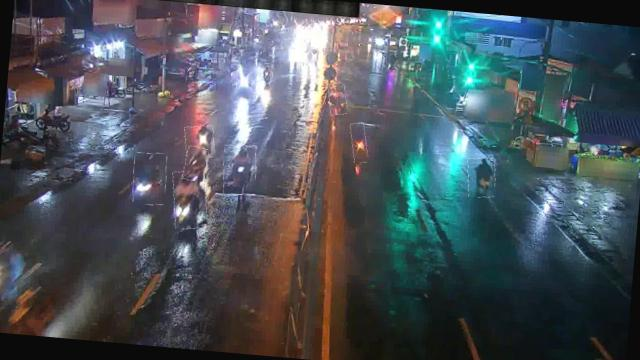Bike: (170, 170, 210, 232), (131, 152, 168, 206), (221, 144, 258, 196), (467, 158, 498, 198), (184, 125, 216, 160), (184, 146, 208, 182), (350, 123, 370, 164), (326, 82, 348, 116), (260, 63, 274, 89), (236, 69, 250, 95)
